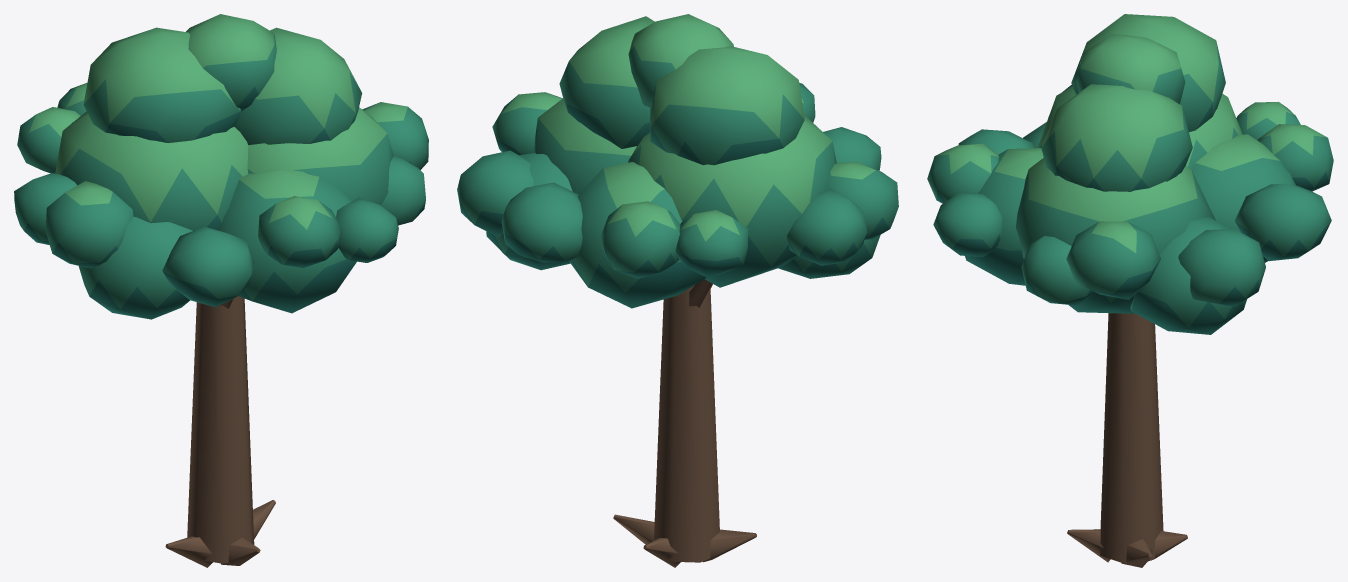
Rendered from tree_b.glb.
3 views of the same model, side by side, from view 1: azimuth 30°, elevation 25°; view 2: azimuth 150°, elevation 25°; view 3: azimuth 270°, elevation 25° (orthographic). The views are drawn at different scales.
Parts seen in each view (by area): view 1: body_nl, body; view 2: body_nl, body; view 3: body_nl, body.
Part boxes in pixels (x1=…): body_nl: x1=14, y1=14, x2=428, y2=319; body: x1=165, y1=296, x2=275, y2=567; body_nl: x1=457, y1=14, x2=898, y2=308; body: x1=613, y1=279, x2=756, y2=567; body_nl: x1=927, y1=14, x2=1333, y2=334; body: x1=1067, y1=313, x2=1187, y2=567.
Bounding box in the file's own units: 3.83 × 5.12 × 3.61.
